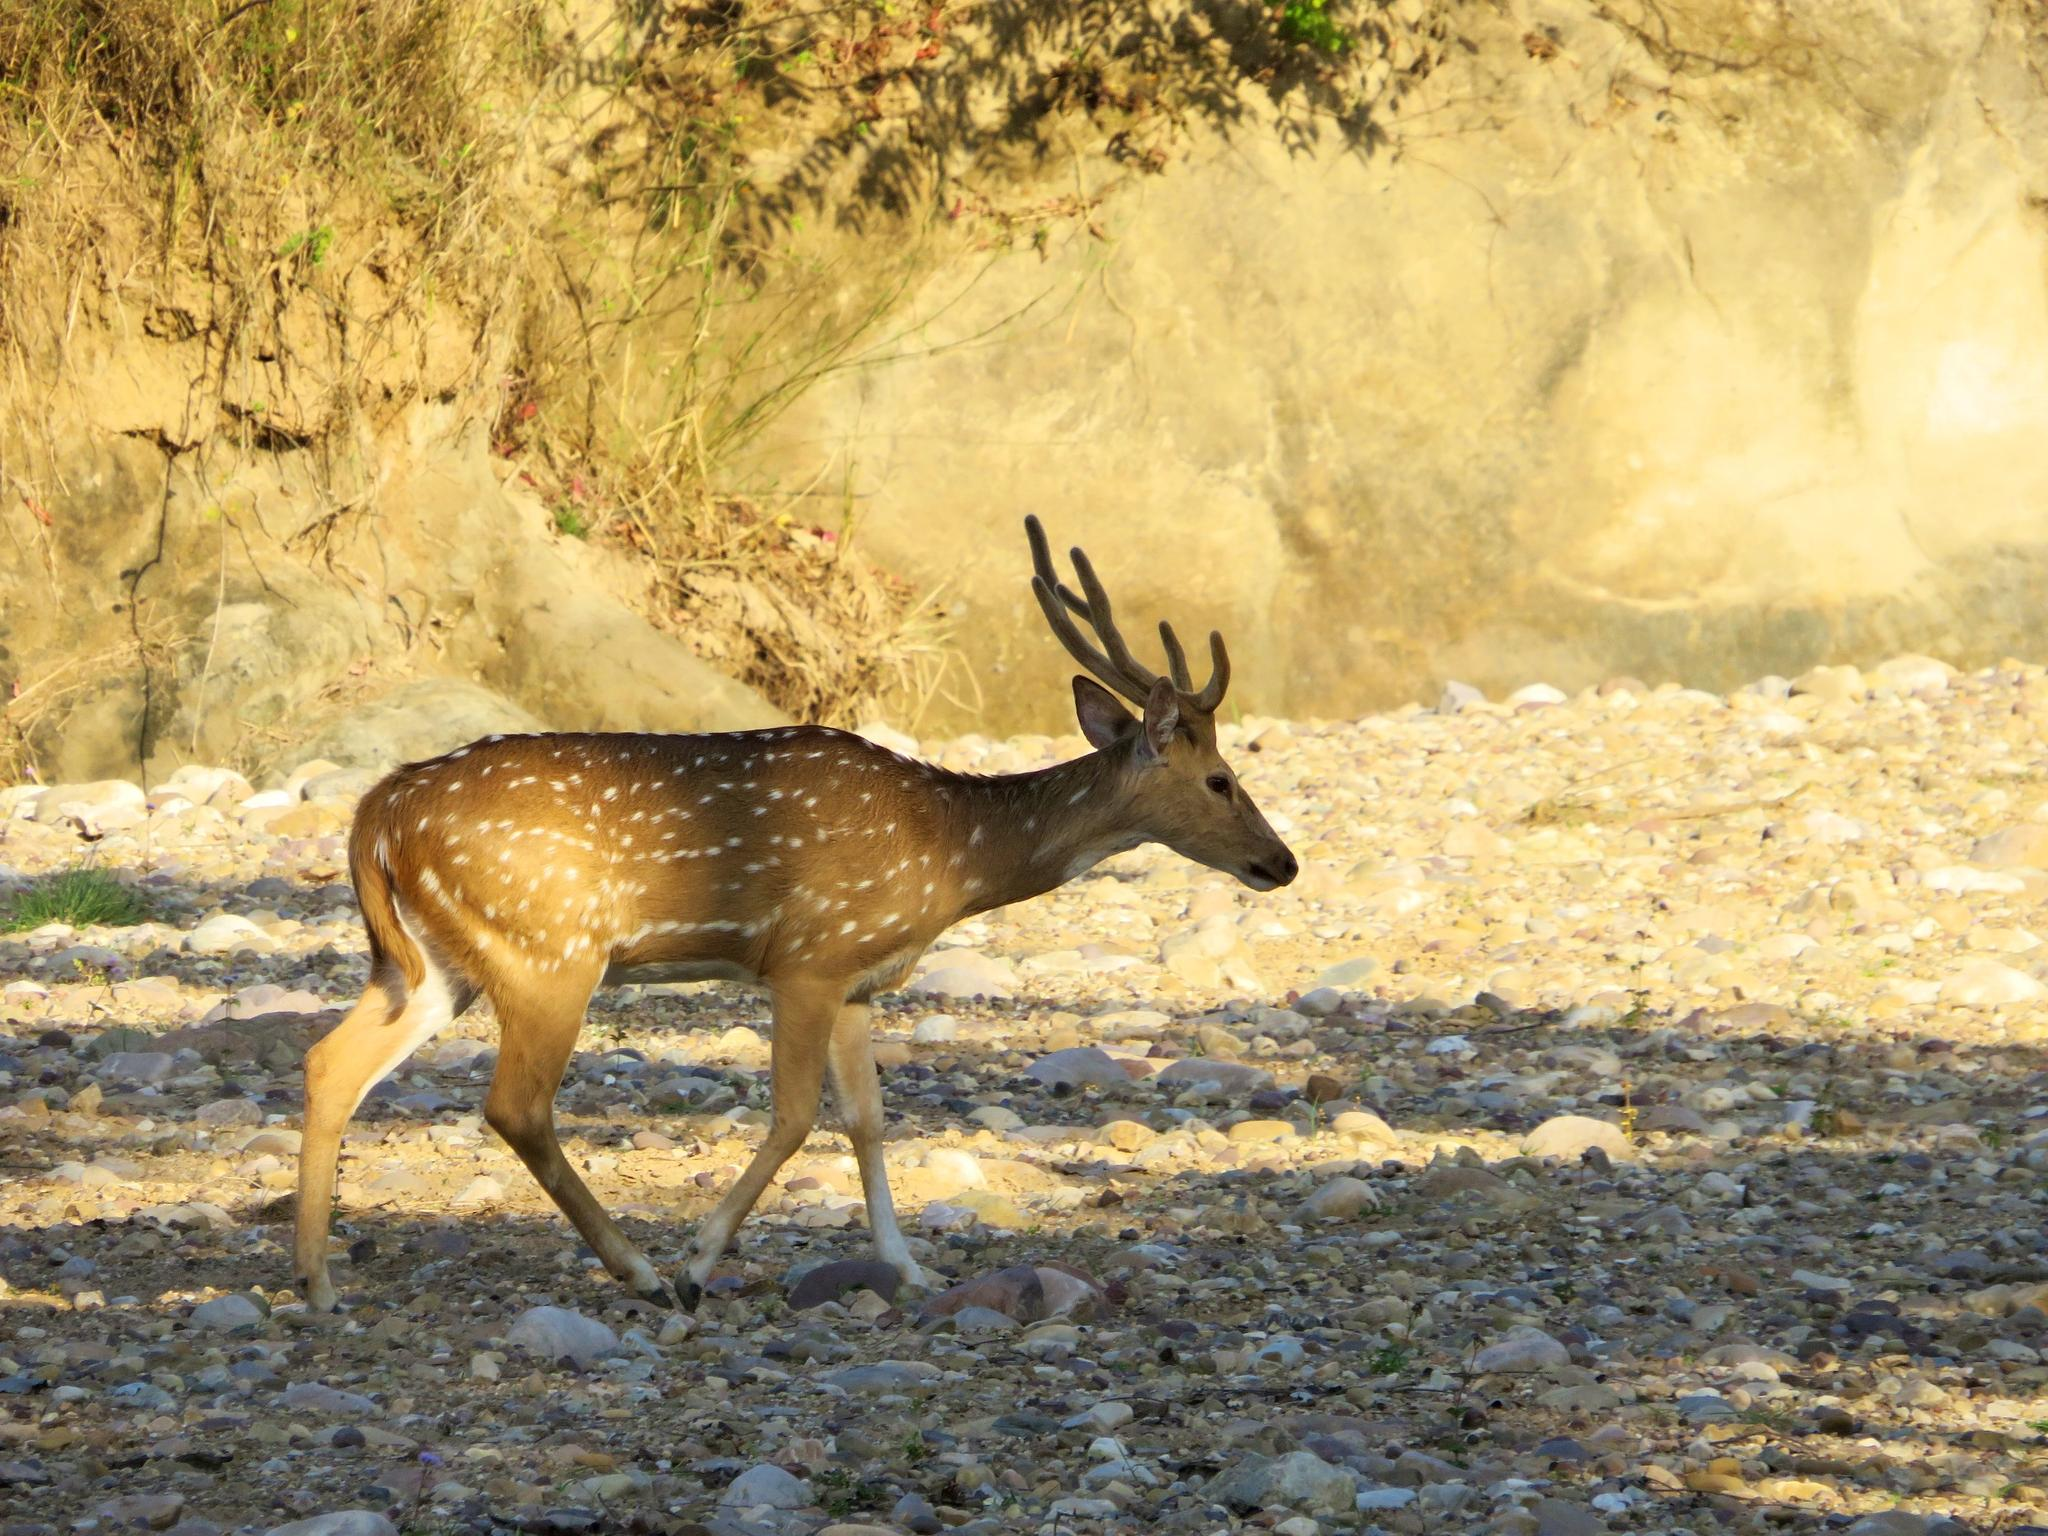Deer: (293, 518, 1298, 1309)
